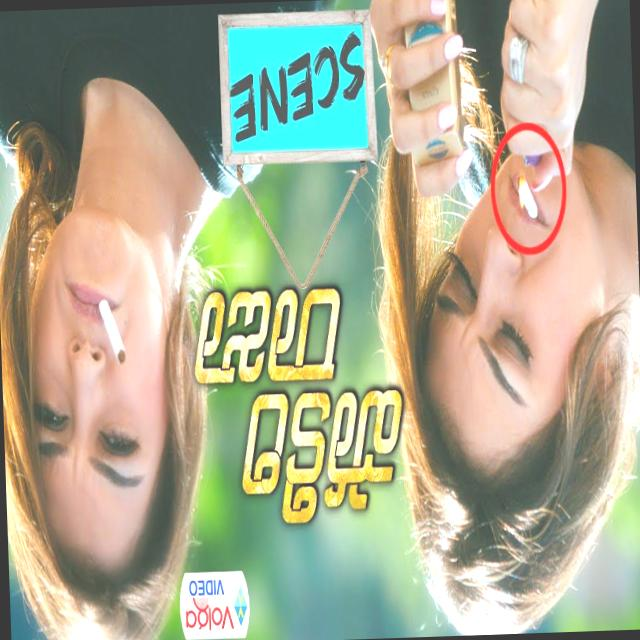smoke: (76, 264, 132, 378), (496, 164, 556, 241)
